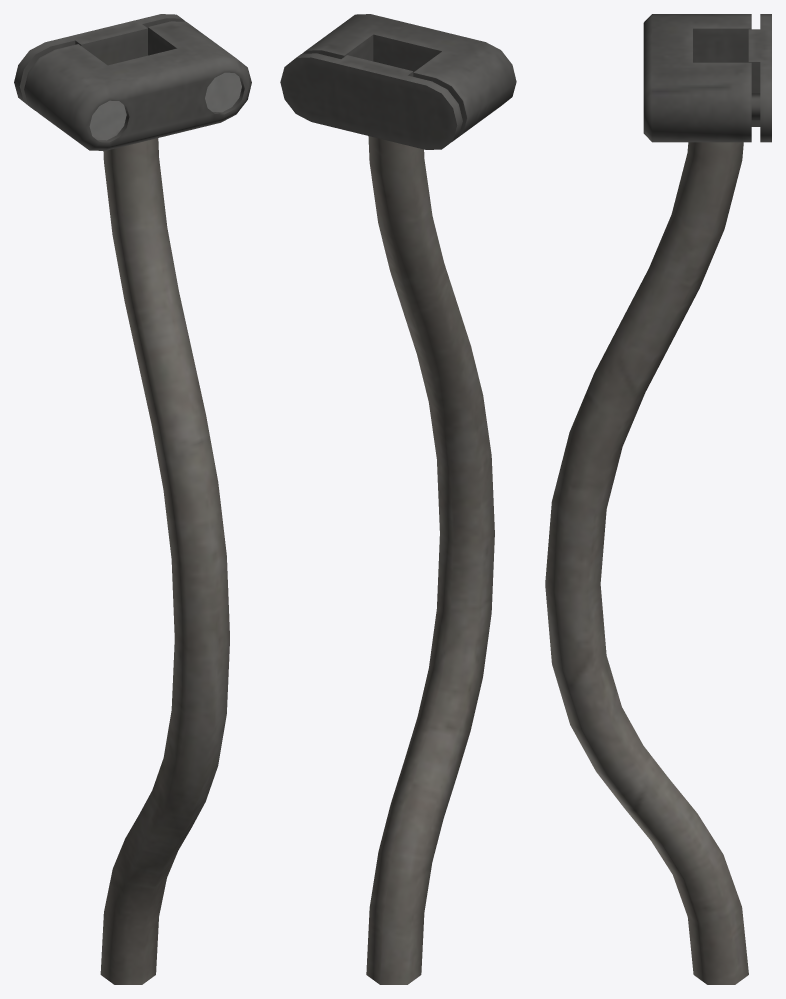
Rendered from cable_bridge_1.glb.
The picture shows the model from 3 angles, left to right: view 1: azimuth 30°, elevation 25°; view 2: azimuth 150°, elevation 25°; view 3: azimuth 270°, elevation 25°; orthographic projection.
Visible parts, largest first — view 1: cable_bridge_1.001; view 2: cable_bridge_1.001; view 3: cable_bridge_1.001.
Boxes of the visible parts, bbox=[...] form: cable_bridge_1.001: bbox=[14, 14, 251, 984]; cable_bridge_1.001: bbox=[280, 14, 516, 984]; cable_bridge_1.001: bbox=[545, 14, 771, 984].
Size of the model in its own units: 0.0416 by 0.2073 by 0.0458.
Materials: 1 (1 with a texture image).
